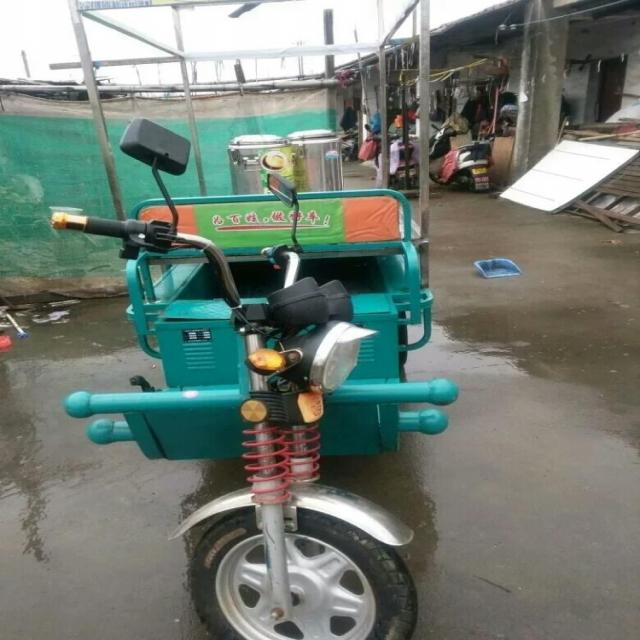motorbike: (426, 122, 493, 191), (359, 121, 418, 187)
tricycle: (51, 120, 462, 638)
